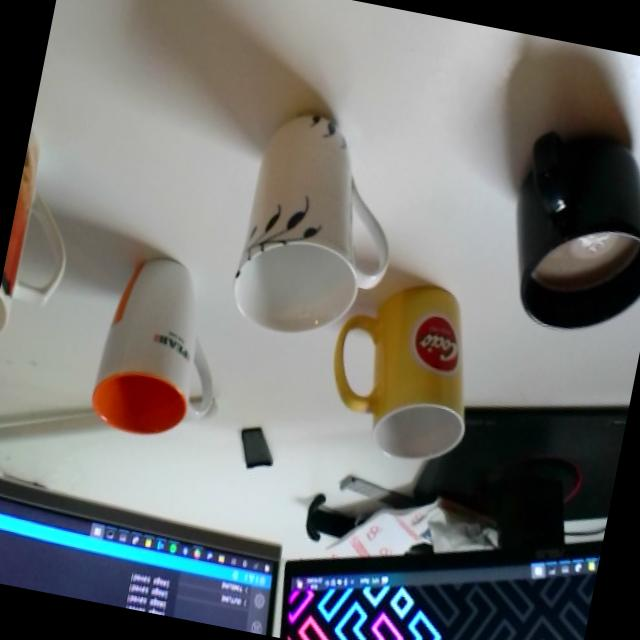Cocio Cup: (315, 268, 490, 472)
Halloween cup: (0, 110, 75, 363)
Hand painted cup: (222, 100, 407, 344)
White Cup: (84, 243, 245, 452)
cup: (489, 126, 640, 347)
